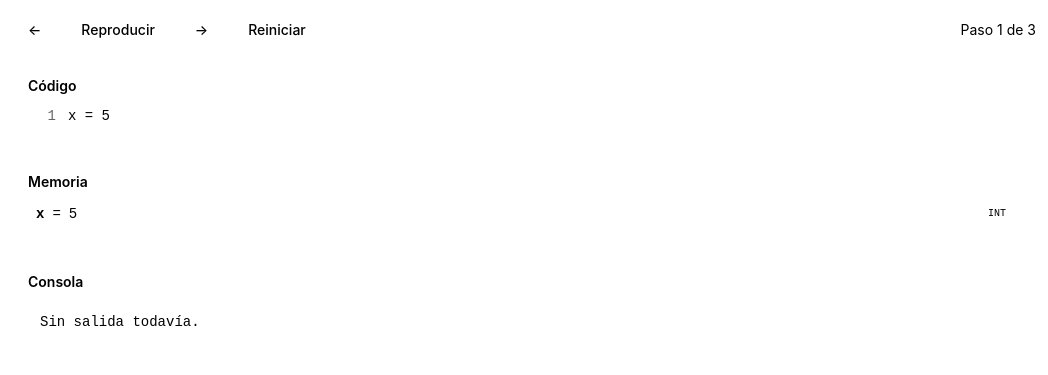
TracePanel › resalta solo las variables nuevas o modificadas respecto al paso anterior
The width and height of the screenshot is (1048, 375).
Click the button named "siguiente".
click(202, 30)  # box [179,12,224,48]
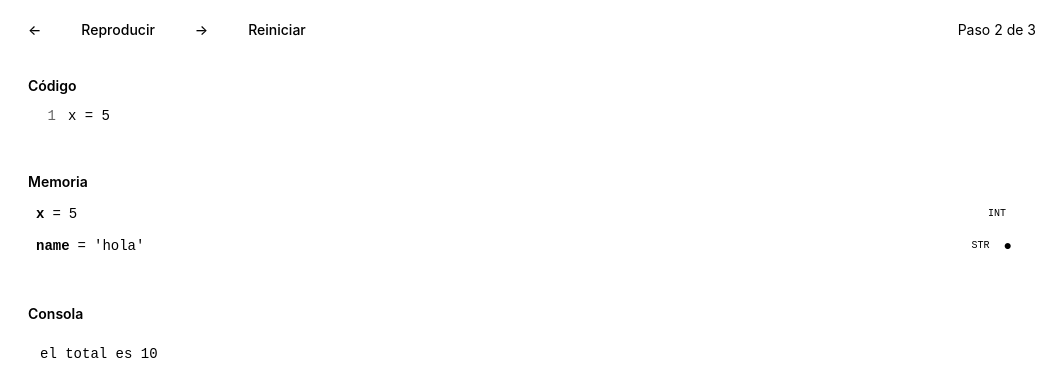
Expected: the number of elements named "modificado" is 1, [1004,236,1012,256]
